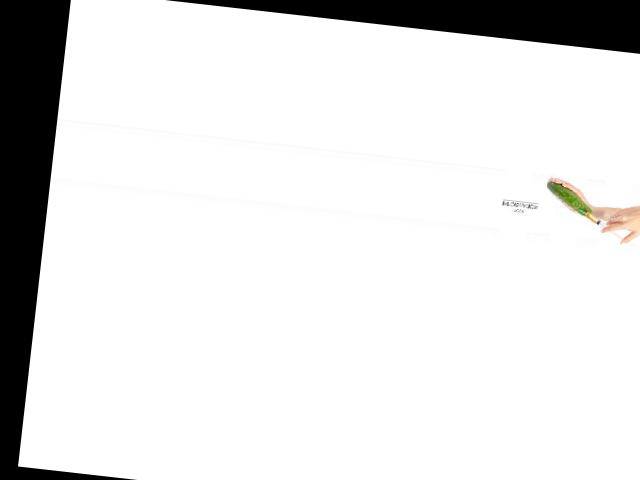cucumber: (544, 181, 594, 217)
